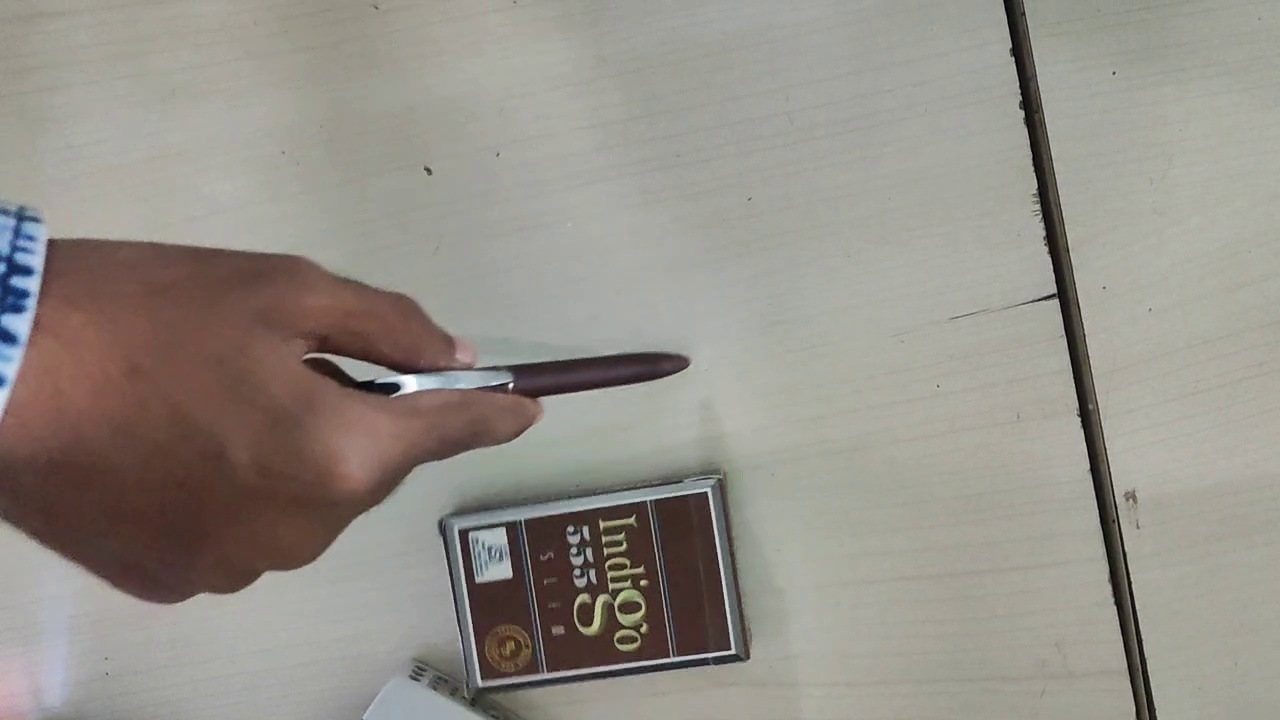BEX: (456, 489, 733, 686)
